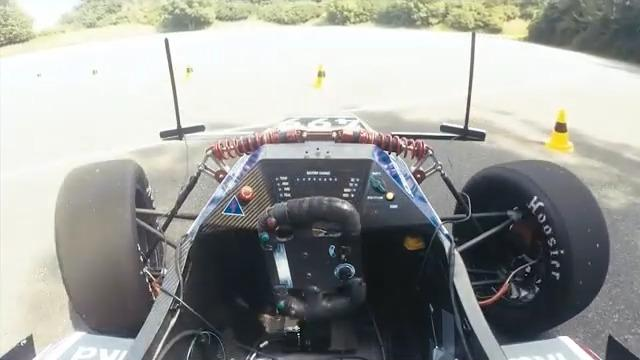yellow_cone: (545, 108, 573, 152), (314, 63, 332, 89)
